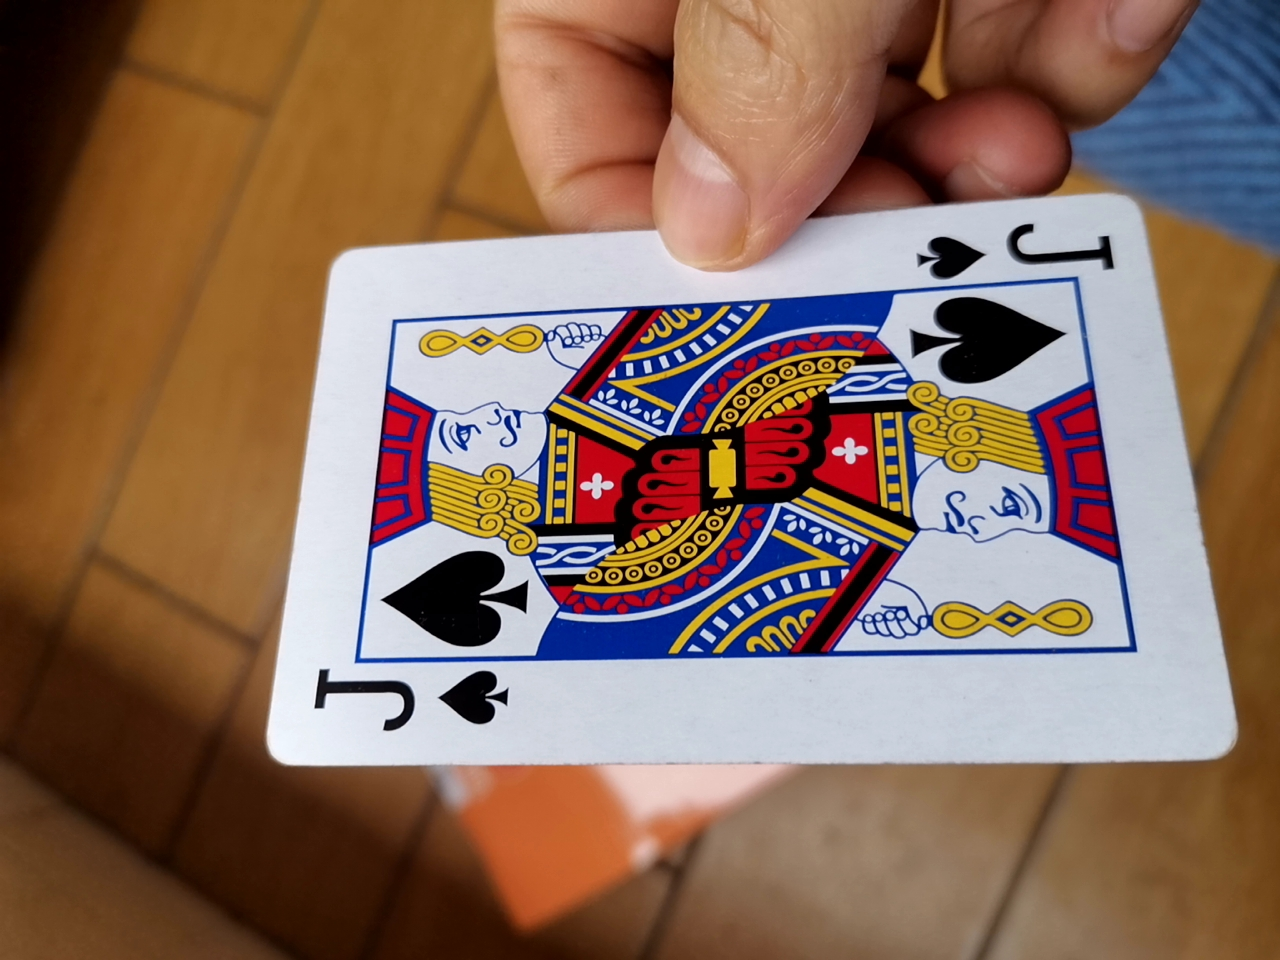ht j: (253, 199, 1209, 788)
